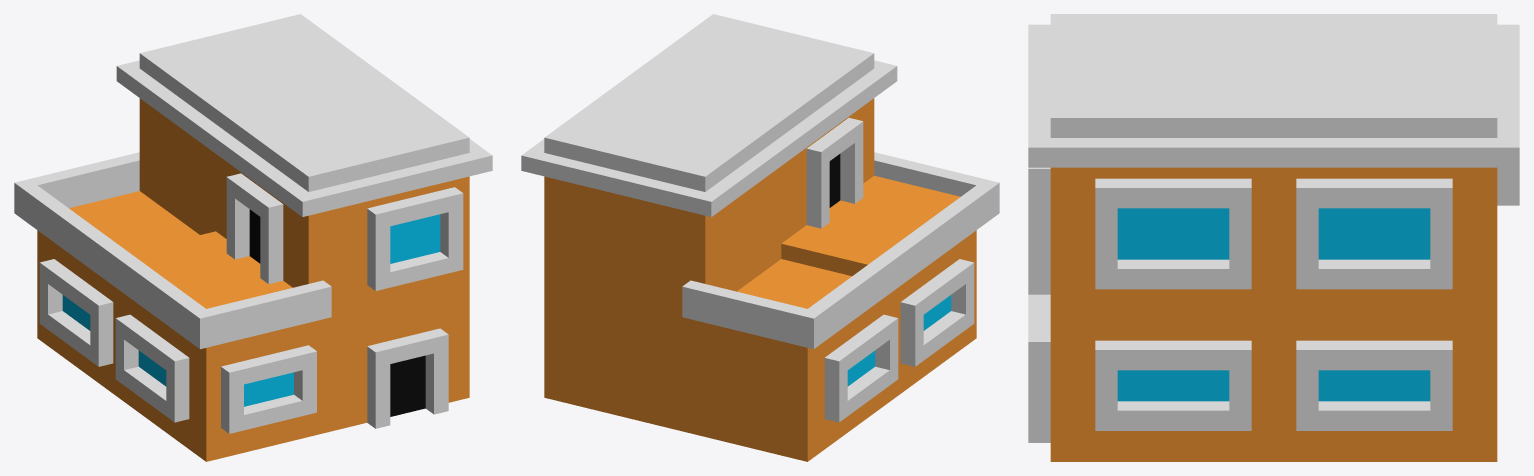
The model's file is casa3.1.fbx.
3 views of the same model, side by side, from view 1: azimuth 30°, elevation 25°; view 2: azimuth 150°, elevation 25°; view 3: azimuth 270°, elevation 25° (orthographic). The views are drawn at different scales.
Visible parts, largest first — view 1: Cubo.2315; view 2: Cubo.2315; view 3: Cubo.2315.
Part boxes in pixels (left/top/right/bottom): Cubo.2315: left=14, top=14, right=492, bottom=461; Cubo.2315: left=521, top=14, right=999, bottom=461; Cubo.2315: left=1028, top=14, right=1519, bottom=461.
Bounding box in the file's own units: 2000 × 1700 × 2200.
